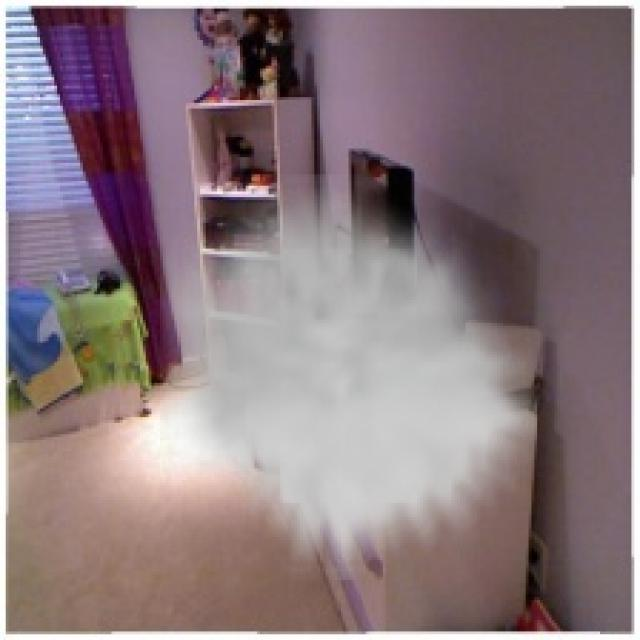smoke: (160, 174, 537, 580)
